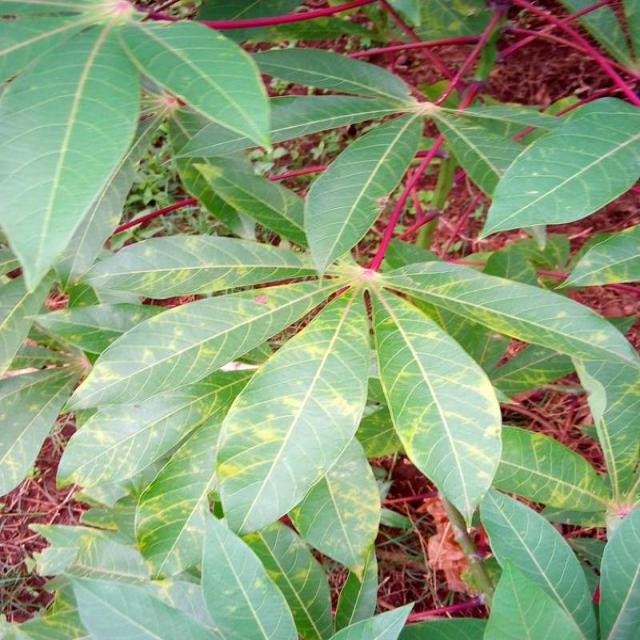cassava leaf: (2, 2, 640, 638), (2, 5, 142, 294), (215, 283, 372, 536), (372, 283, 504, 526), (478, 94, 640, 241), (304, 107, 426, 280)
